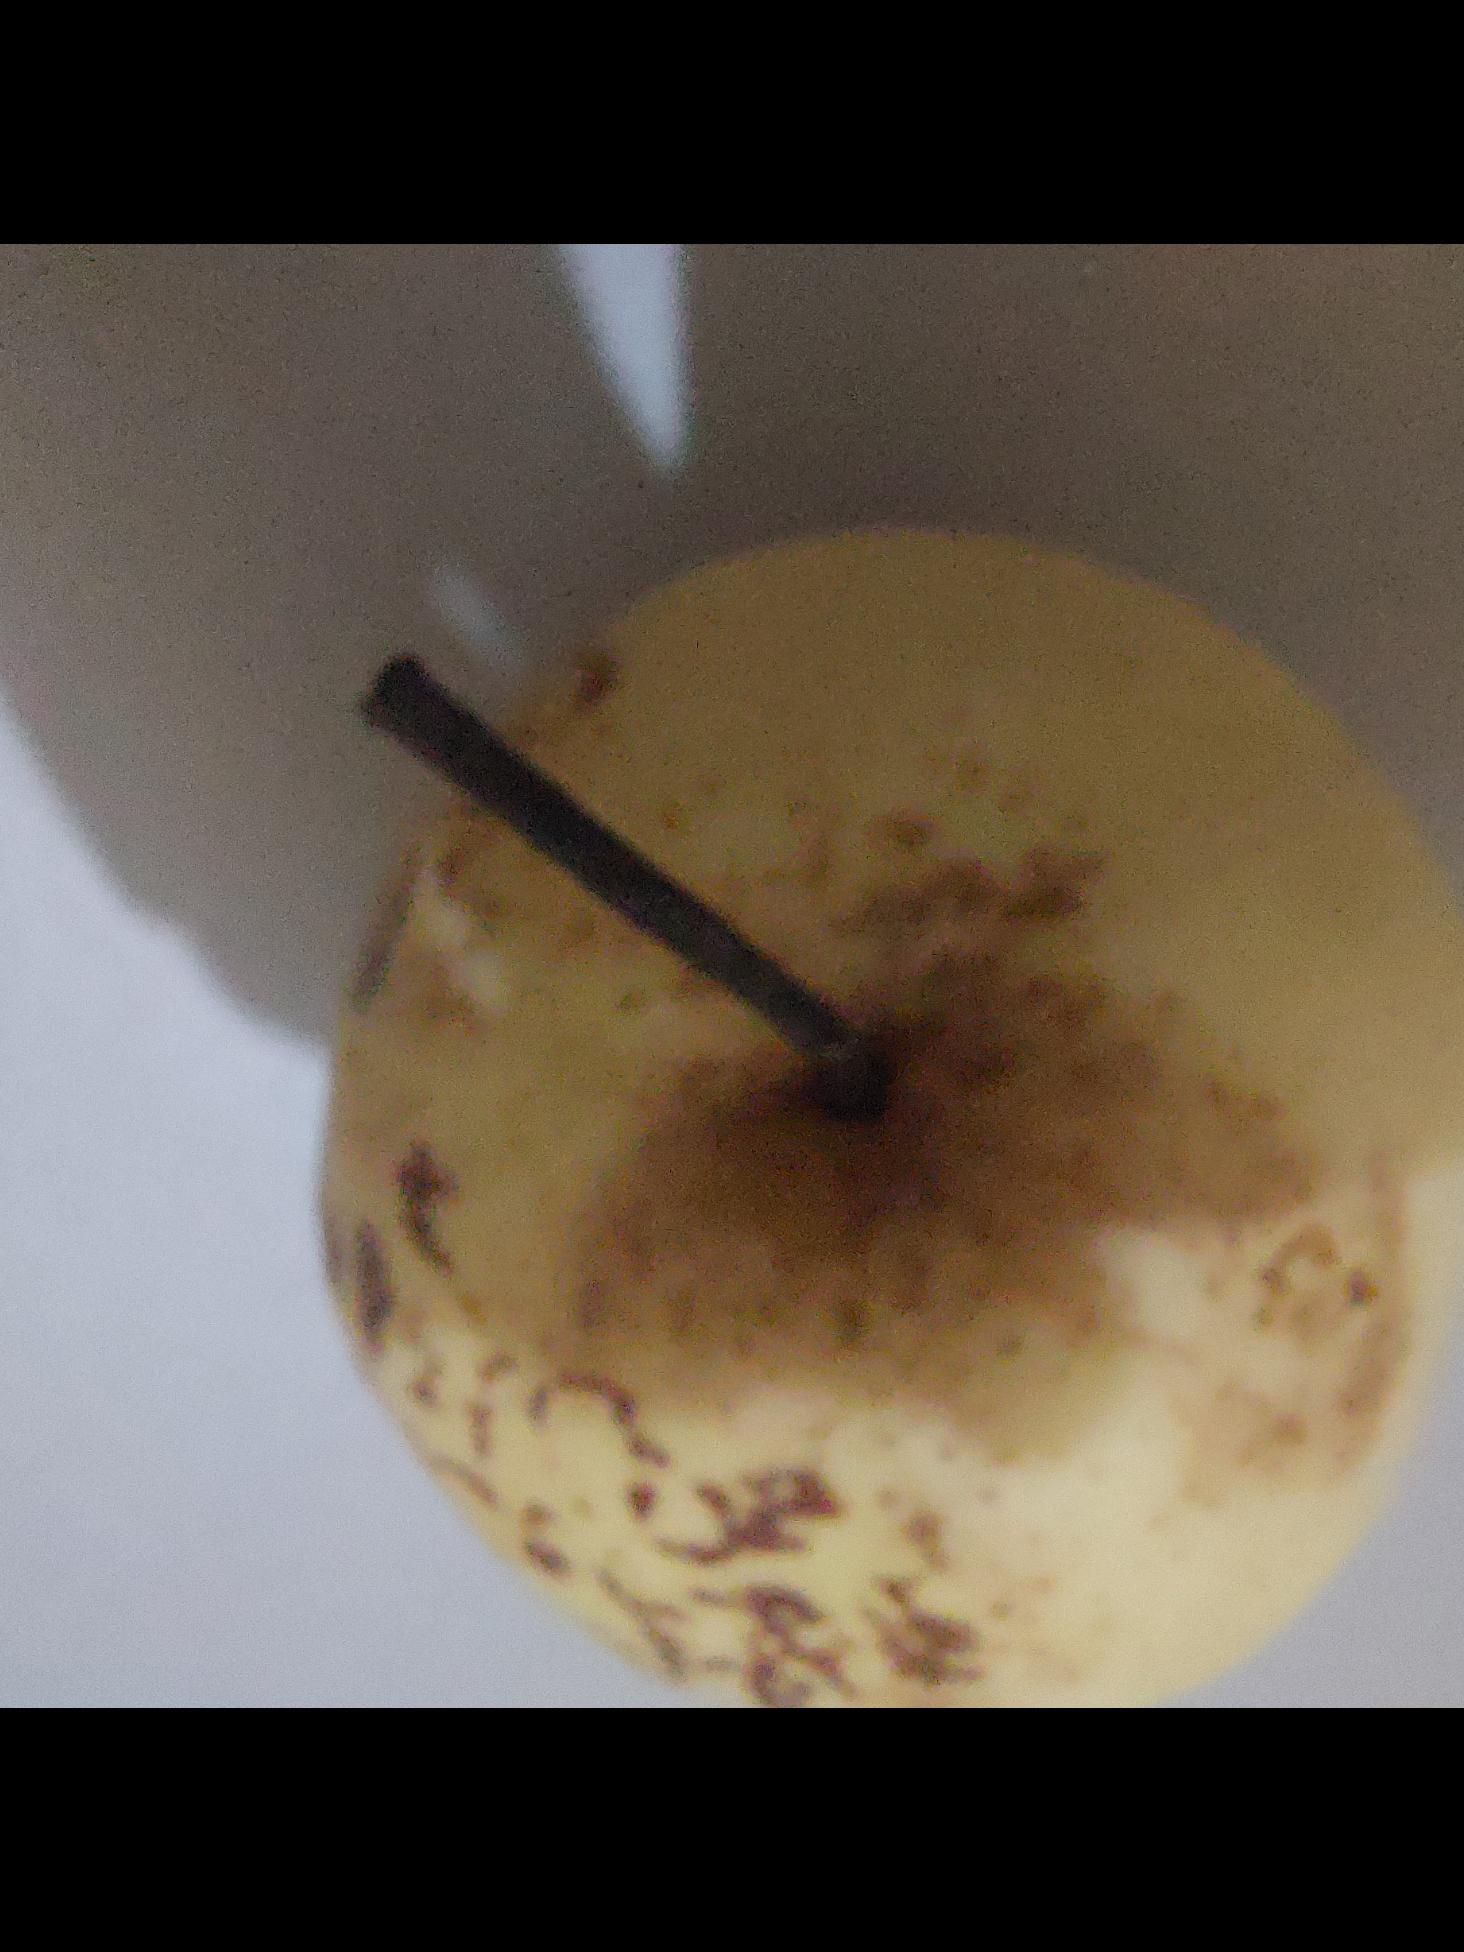Bad Pear: (269, 420, 1464, 1708)
